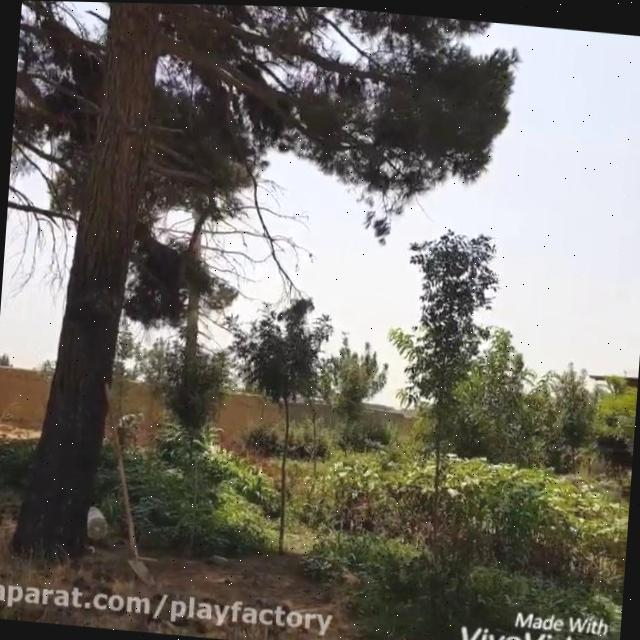drone: (339, 325, 353, 335)
